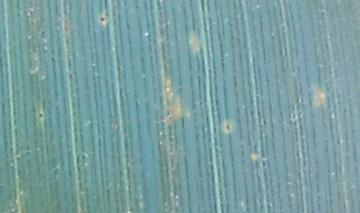tarspot: (224, 122, 231, 132), (98, 15, 106, 23), (319, 10, 327, 17), (37, 112, 44, 119)
